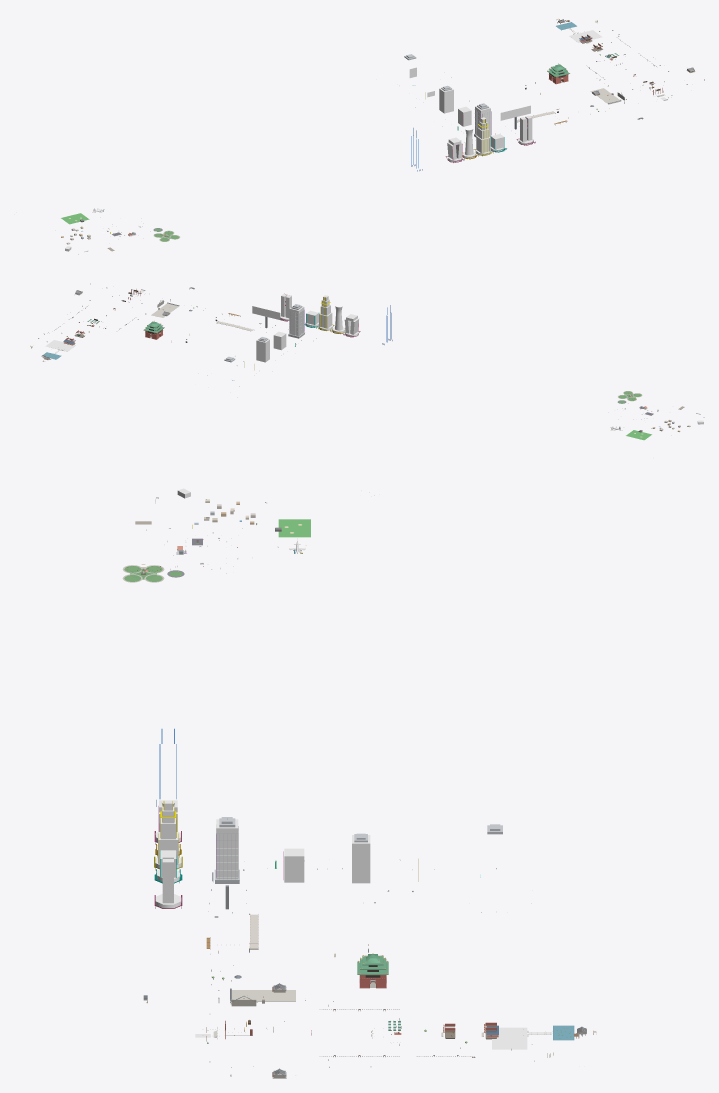
The model's file is pack_3.glb.
3 renders of one model, top to bottom at view 1: azimuth 30°, elevation 25°; view 2: azimuth 150°, elevation 25°; view 3: azimuth 270°, elevation 25°, orthographic. The views are drawn at different scales.
Parts seen in each view (by area): view 1: pack_3.glb; view 2: pack_3.glb; view 3: pack_3.glb.
Part boxes in pixels (box(x1,y1,x2,y2)): pack_3.glb: box(55, 19, 704, 254); pack_3.glb: box(30, 283, 704, 440); pack_3.glb: box(122, 488, 596, 1078).
Bounding box in the file's own units: 2588 × 155 × 877.
